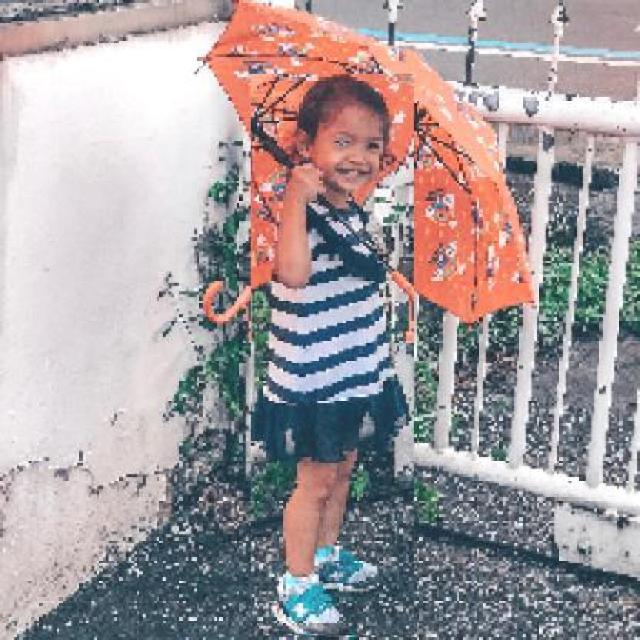child: (249, 74, 414, 637)
